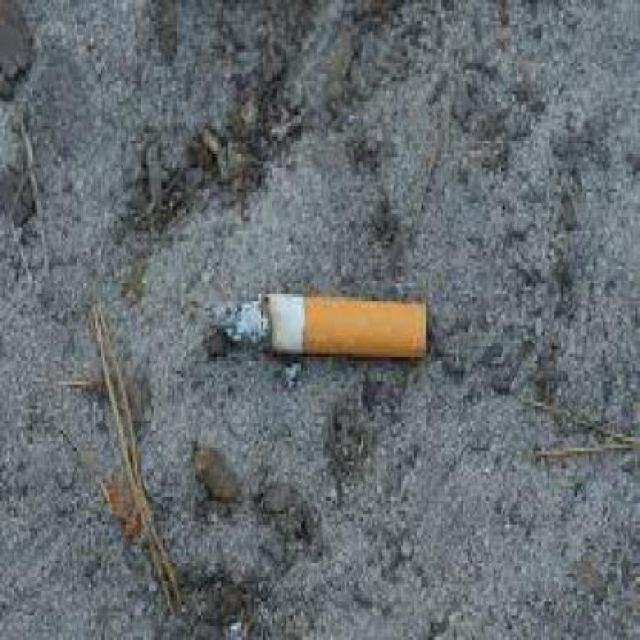cigarette: (205, 262, 443, 382)
